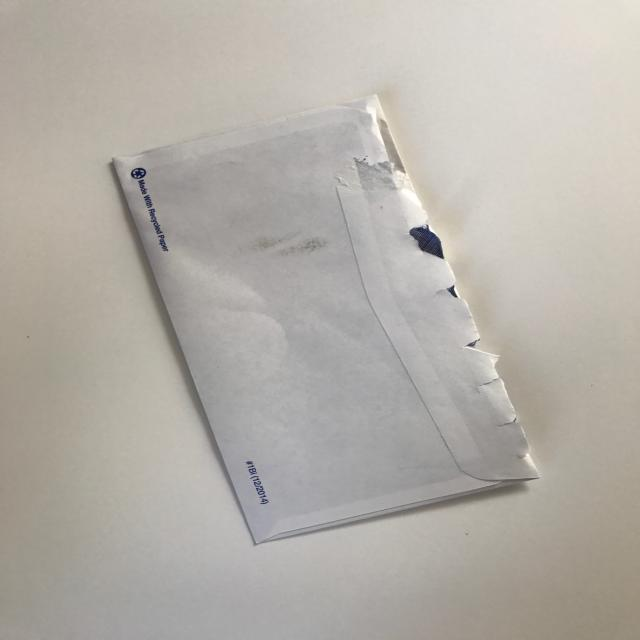Paper: (113, 90, 541, 542)
